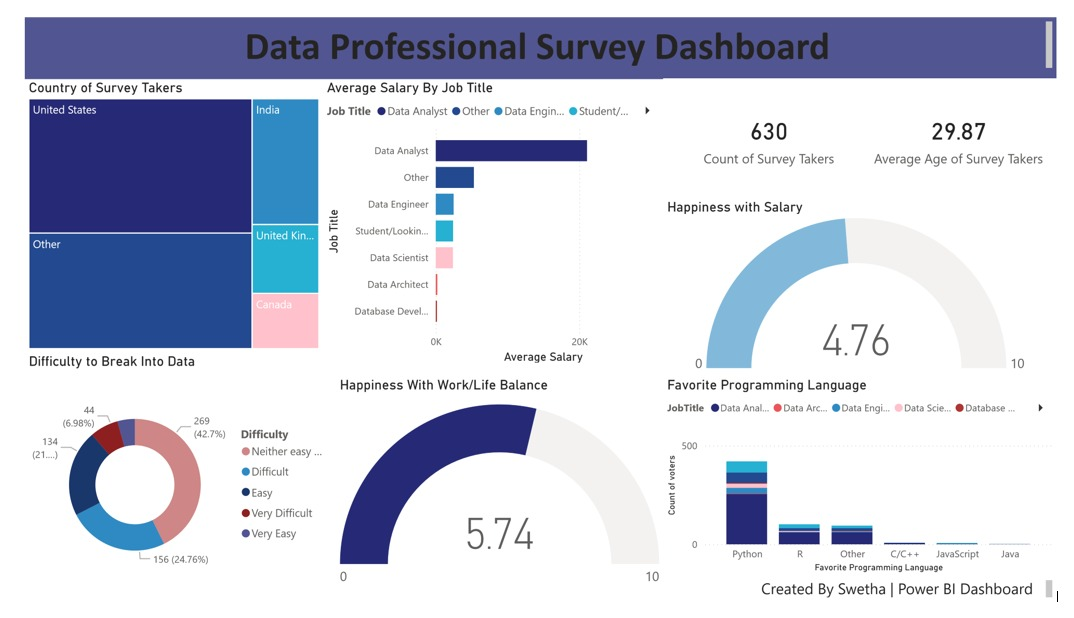

Layout of this report page (visuals, bound fields, positions):
{"tool":"powerbi","page":{"name":"Page 1","canvas":[1280,720],"ordinal":0},"visuals":[{"type":"textbox","box":[9.4,0,1269.9,75.6],"z":0},{"type":"card","fields":{"Values":["CountNonNull(Data Professional Survey.Unique ID)"]},"box":[795.3,75.5,259.6,147.3],"z":1000},{"type":"card","fields":{"Values":["Avg(Data Professional Survey.Q10 - Current Age)"]},"box":[1038.2,75.5,241.2,147.3],"z":2000},{"type":"barChart","title":"Average Salary By Job Title","fields":{"Category":["Data Professional Survey.Q1 - Which Title Best Fits your Current Role?.1"],"Y":["Sum(Data Professional Survey.Average Salary)"],"Series":["Data Professional Survey.Q1 - Which Title Best Fits your Current Role?.1"]},"box":[375.5,75.7,419.4,354.3],"z":3000},{"type":"columnChart","title":"Favorite Programming Language","fields":{"Category":["Data Professional Survey.Q5 - Favorite Programming Language.1"],"Y":["CountNonNull(Data Professional Survey.Unique ID)"],"Series":["Data Professional Survey.Q1 - Which Title Best Fits your Current Role?.1"]},"box":[795.3,441.8,484.1,246.7],"z":4000},{"type":"treemap","title":"Country of Survey Takers","fields":{"Group":["Data Professional Survey.Q11 - Which Country do you live in?.1"],"Values":["CountNonNull(Data Professional Survey.Q11 - Which Country do you live in?.1)"]},"box":[9.1,75.7,366.4,337.7],"z":5000},{"type":"gauge","title":"Happiness With Work/Life Balance","fields":{"Y":["Avg(Data Professional Survey.Q6 - How Happy are you in your Current Position with the following? (Work/Life Balance))"],"MinValue":["Min(Data Professional Survey.Q6 - How Happy are you in your Current Position with the following? (Work/Life Balance))1"],"MaxValue":["Max(Data Professional Survey.Q6 - How Happy are you in your Current Position with the following? (Work/Life Balance))2"]},"box":[392.1,441.8,403.1,278],"z":6000},{"type":"gauge","title":"Happiness with Salary","fields":{"Y":["Avg(Data Professional Survey.Q6 - How Happy are you in your Current Position with the following? (Upward Mobility))"],"MinValue":["Min(Data Professional Survey.Q6 - How Happy are you in your Current Position with the following? (Upward Mobility))"],"MaxValue":["Max(Data Professional Survey.Q6 - How Happy are you in your Current Position with the following? (Upward Mobility))"]},"box":[795.3,222.7,484.1,219.1],"z":7000},{"type":"donutChart","title":"Difficulty to Break Into Data","fields":{"Category":["Data Professional Survey.Q7 - How difficult was it for you to break into Data?"],"Y":["CountNonNull(Data Professional Survey.Q7 - How difficult was it for you to break into Data?)"]},"box":[9.1,413.4,383.1,305.9],"z":8000},{"type":"textbox","box":[834.5,688.4,444.3,30.7],"z":9000}]}

Visuals, with their boxes in screenshot pixels (x1, y1, x2, y2), scaled from the page's 1280x720 canvas onto the 1074x618 screenshot:
textbox: x1=8, y1=0, x2=1073, y2=65
card - CountNonNull(Data Professional Survey.Unique ID): x1=667, y1=65, x2=885, y2=191
card - Avg(Data Professional Survey.Q10 - Current Age): x1=871, y1=65, x2=1073, y2=191
"Average Salary By Job Title" barChart: x1=315, y1=65, x2=667, y2=369
"Favorite Programming Language" columnChart: x1=667, y1=379, x2=1073, y2=591
"Country of Survey Takers" treemap: x1=8, y1=65, x2=315, y2=355
"Happiness With Work/Life Balance" gauge: x1=329, y1=379, x2=667, y2=617
"Happiness with Salary" gauge: x1=667, y1=191, x2=1073, y2=379
"Difficulty to Break Into Data" donutChart: x1=8, y1=355, x2=329, y2=617
textbox: x1=700, y1=591, x2=1073, y2=617
